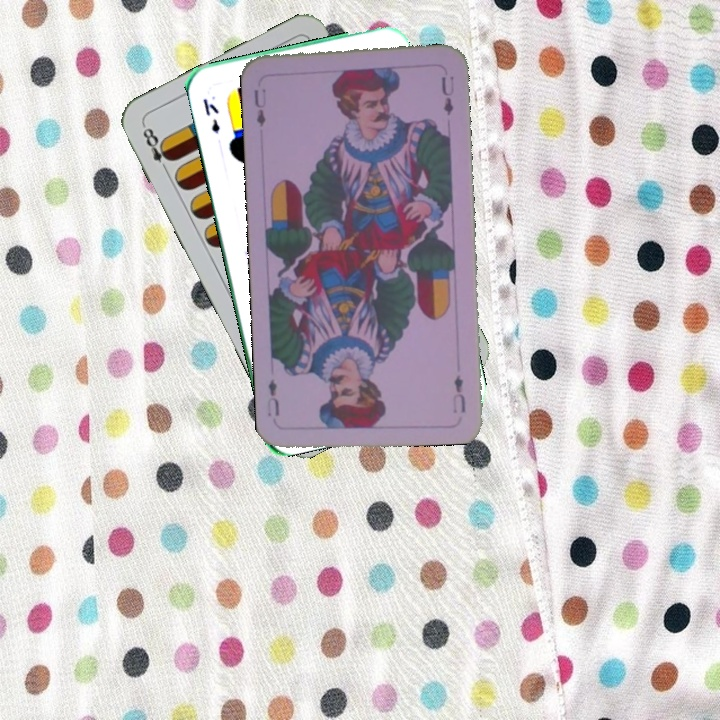E8: (138, 121, 176, 176)
EK: (198, 94, 223, 136)
EU: (449, 370, 468, 416), (250, 85, 269, 130)
